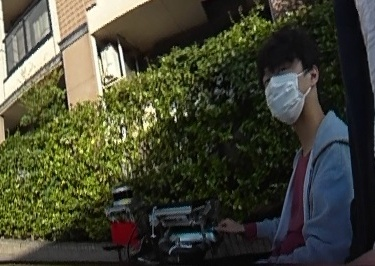person: (191, 27, 340, 266)
